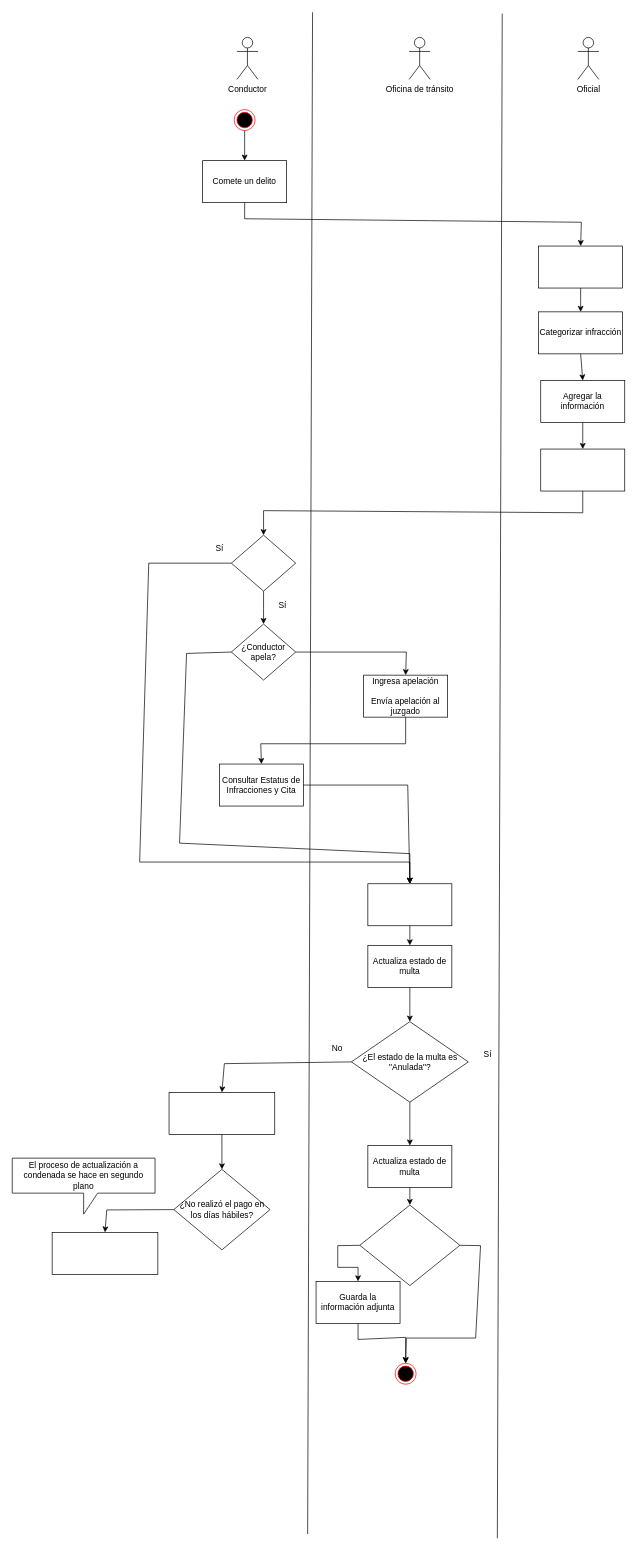
Image size: 637x1551. Some labels were removed from this diagram. The shapes that lost their labels are listed below. From the top down, each one's centre as x and y in pixels, then its label:
At pixel 580 266: "Consultar Estatus de Licencia".
At pixel 582 469: "Registrar Infracción Reducir Puntos".
At pixel 263 562: "¿Han pasado menos de 5 días hábiles?".
At pixel 409 904: "Recibe resolución del juzgado".
At pixel 221 1113: "Se le notifica del tiempo disponible para realizar el pago".
At pixel 104 1253: "Se crea una cuenta a cobrar".
At pixel 409 1245: "¿Se envió adjuntó información de la anulación?".
